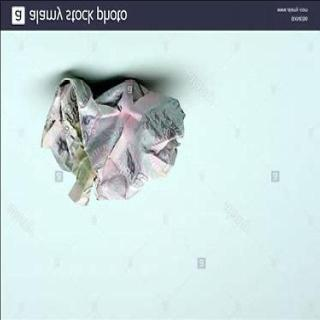Anorganik: (38, 65, 192, 207)
